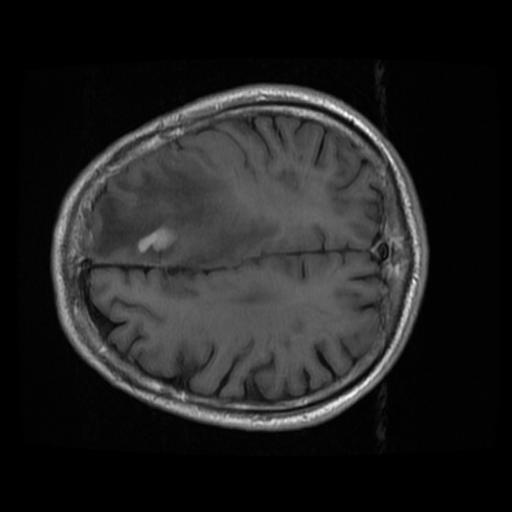glioma: (91, 156, 278, 265)
